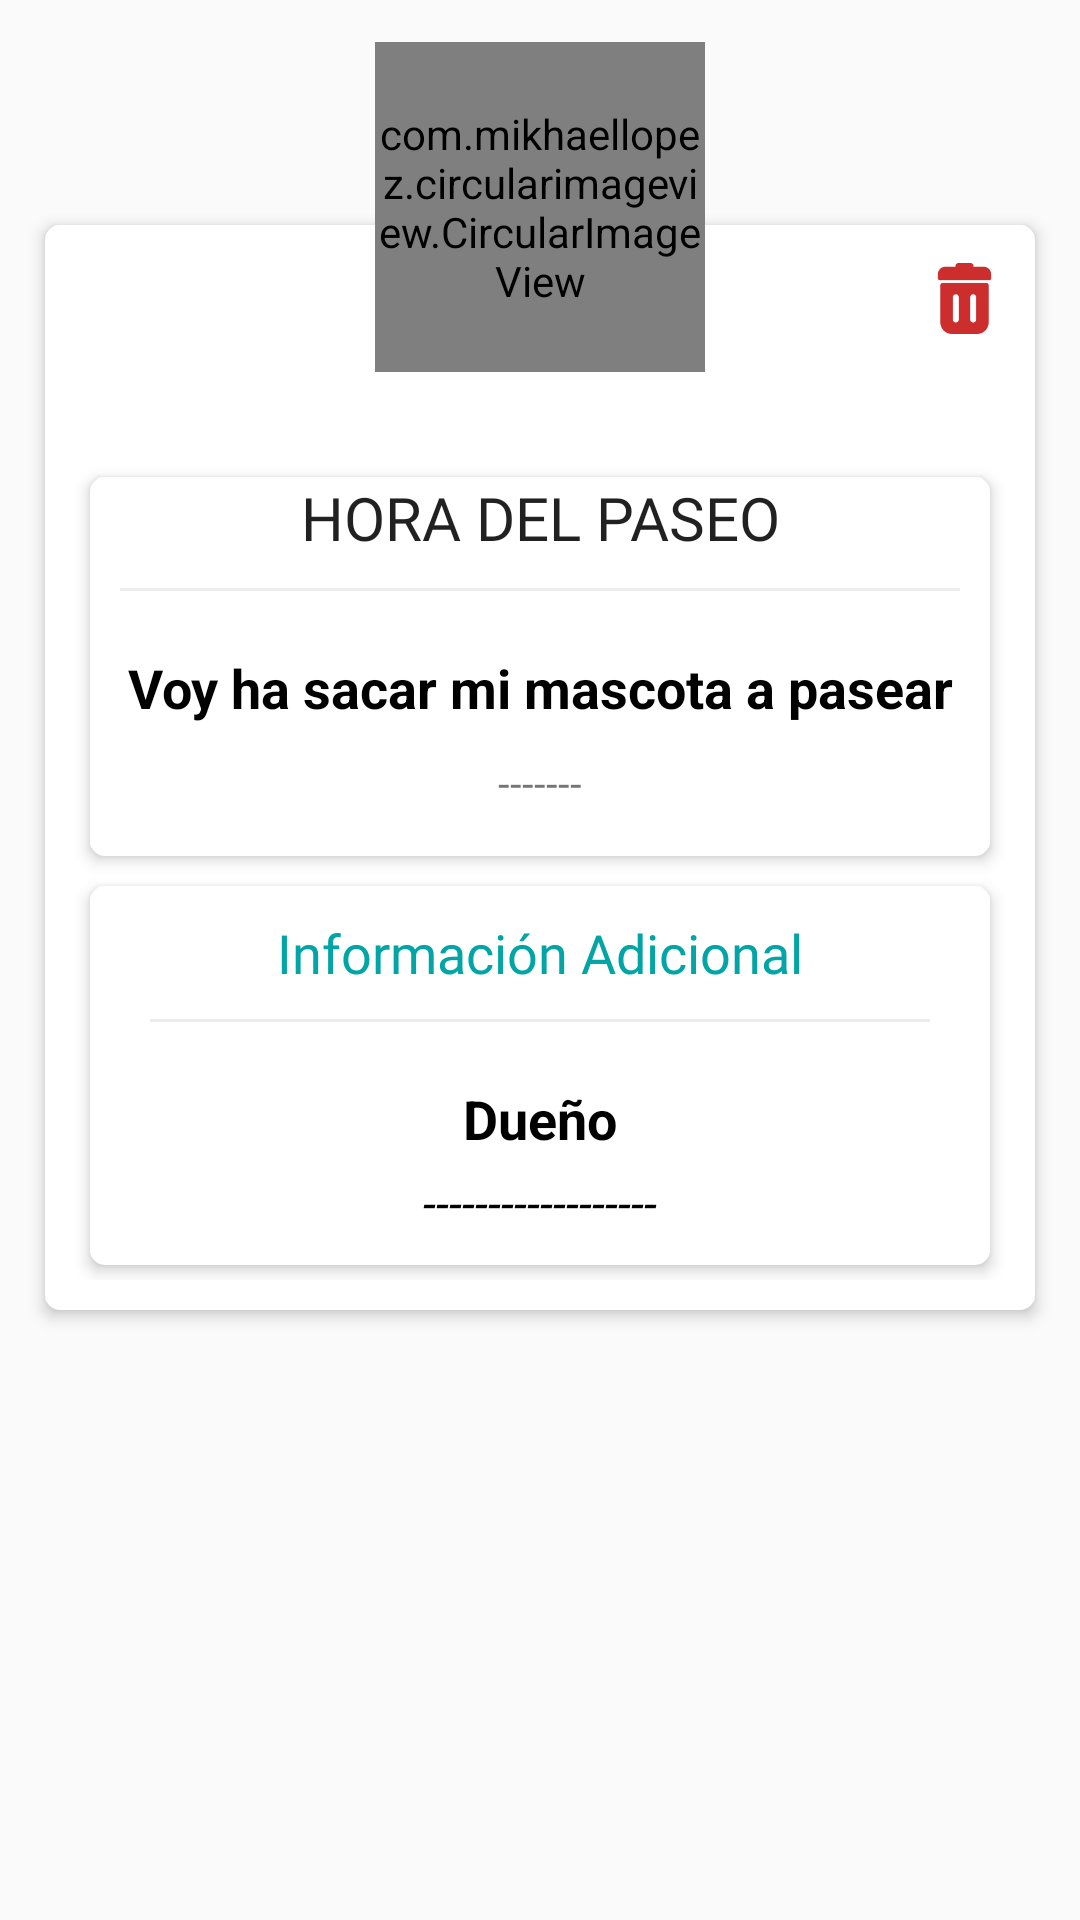

Icon click points for this 1080w x 1920h phone screenshot, format (x,y):
papelera: (964,298)
